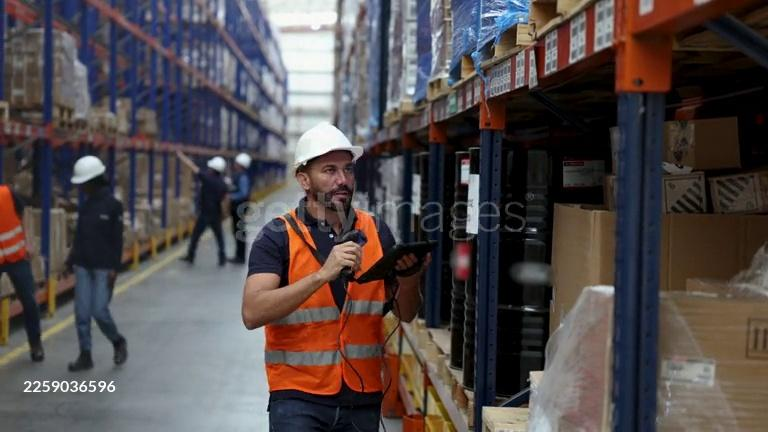helmet: (292, 122, 365, 175), (71, 155, 107, 185), (207, 156, 226, 174), (235, 152, 253, 169)
person: (242, 121, 429, 432), (59, 155, 129, 372), (0, 183, 46, 362), (178, 156, 233, 268), (228, 152, 253, 263)
